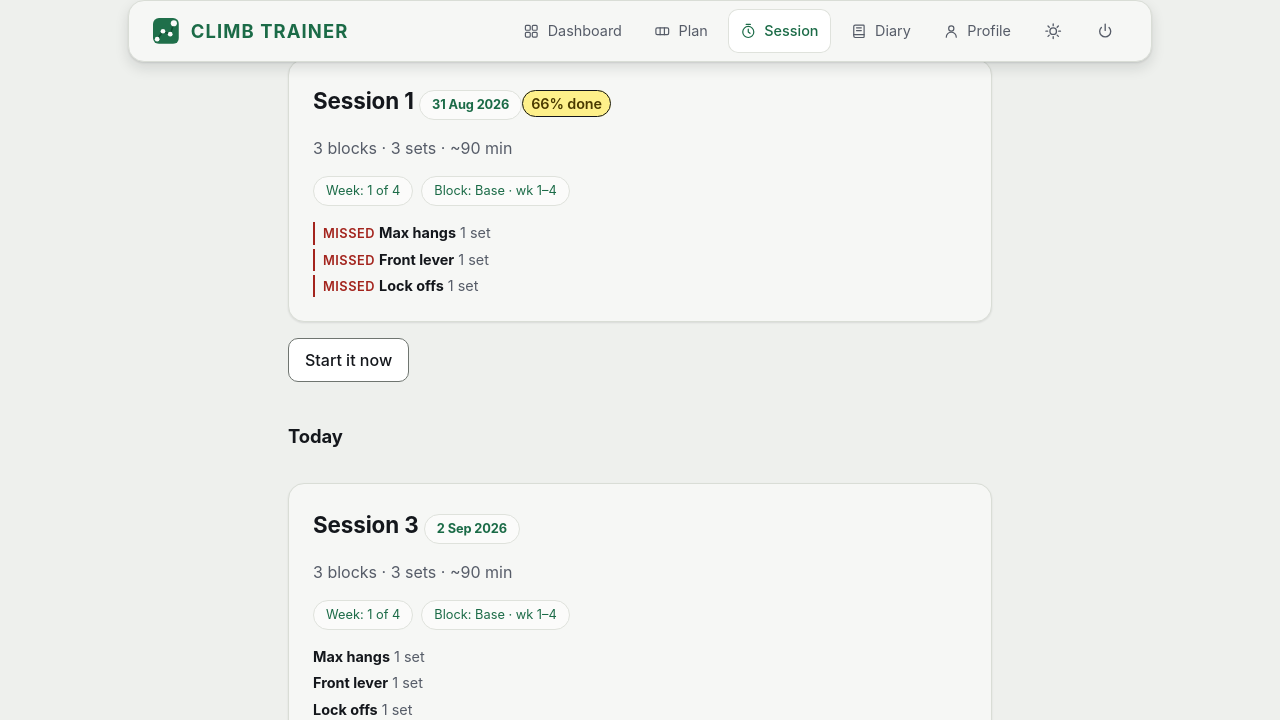
Test: takes a session done in FULL off the offer sections entirely, card included
(page scrolled)
Expected: the heading "Pending from previous days" is shown, [288, 1, 536, 23]
Click the button "Start it now": coordinates (349, 360) [288, 338, 409, 382]
(page scrolled)
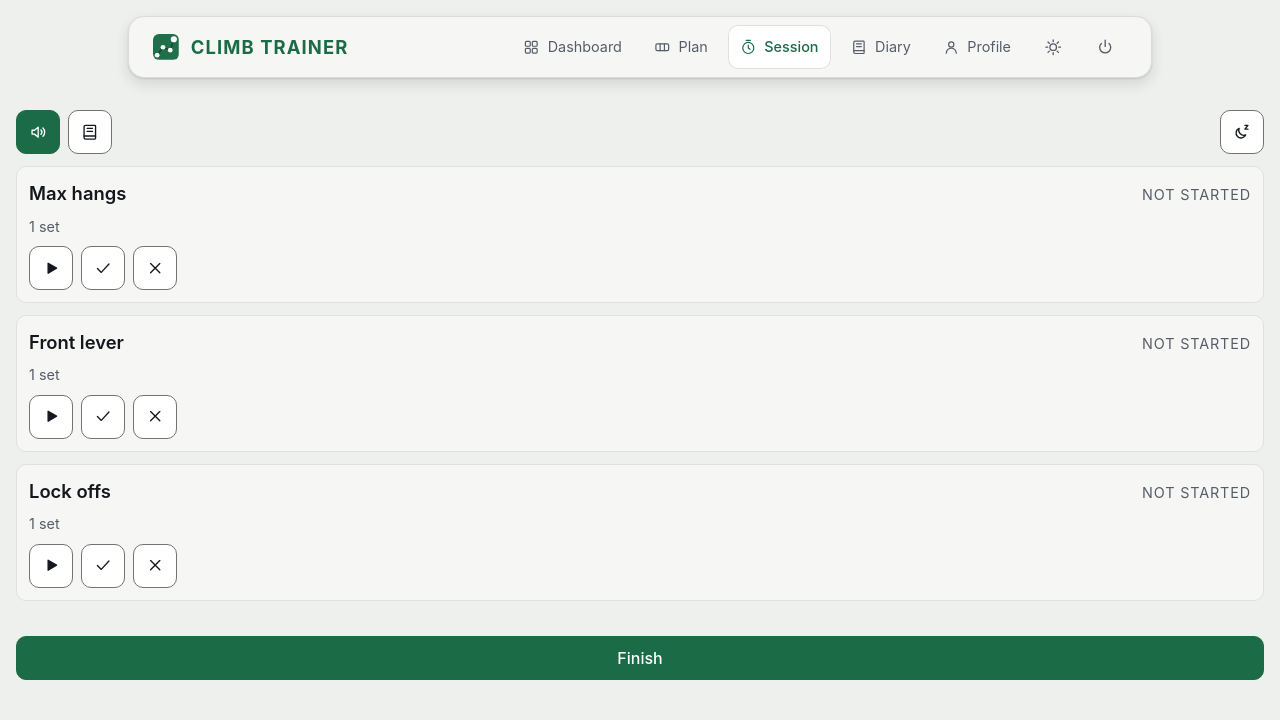
Click the button named "I did Max hangs myself": coordinates (103, 268) [81, 246, 125, 290]
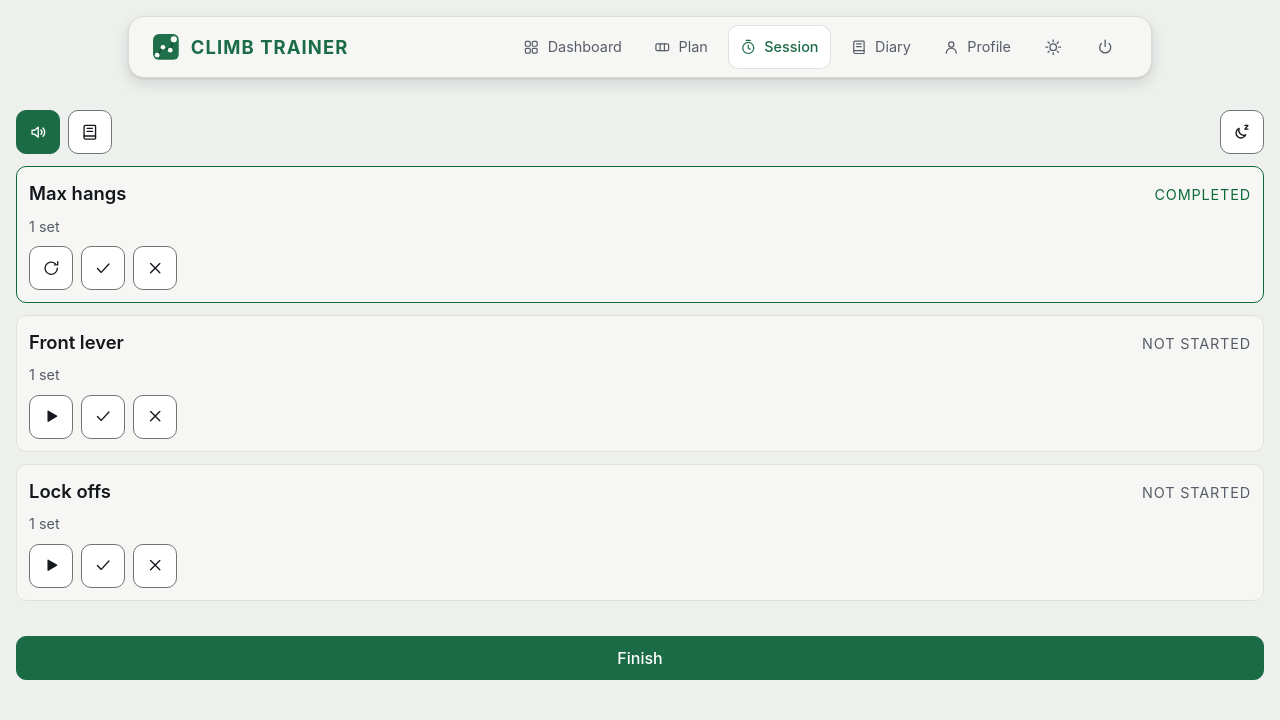
Click the button named "I did Front lever myself": coordinates (103, 417) [81, 395, 125, 439]
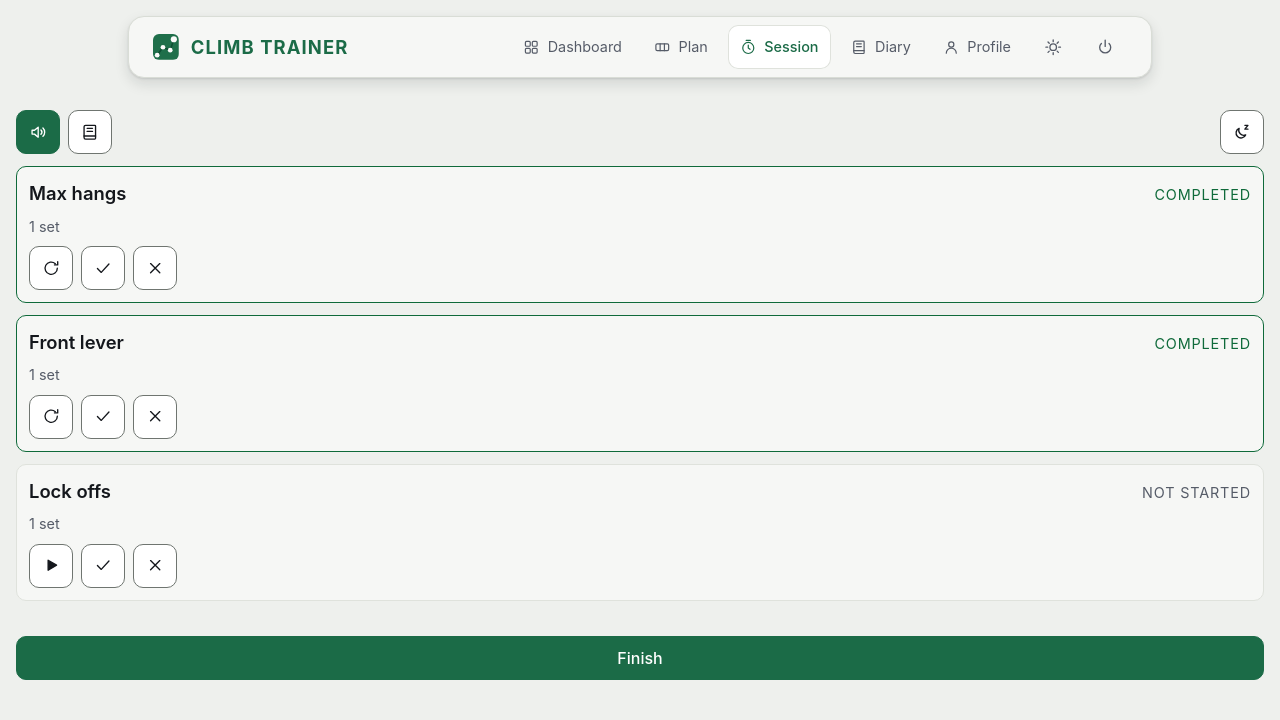
Click the button named "I did Lock offs myself": coordinates (103, 566) [81, 544, 125, 588]
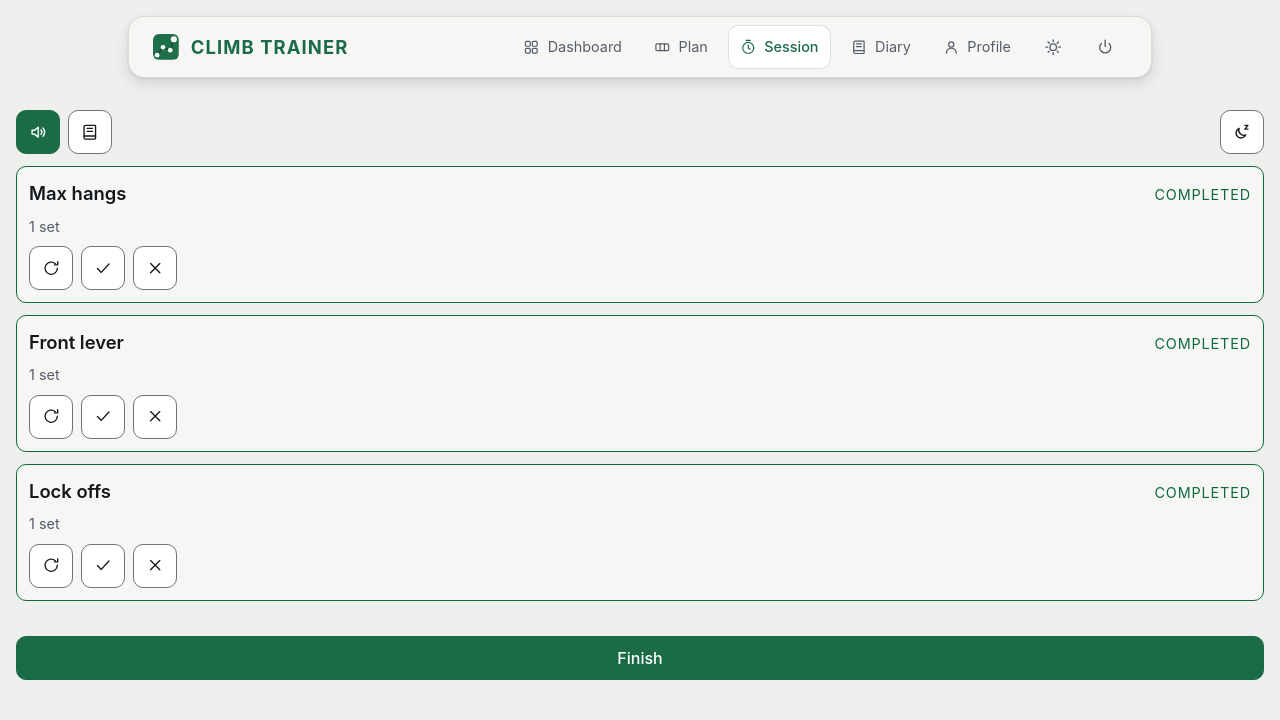
Click the button "Finish": coordinates (640, 658) [16, 636, 1264, 680]
(page scrolled)
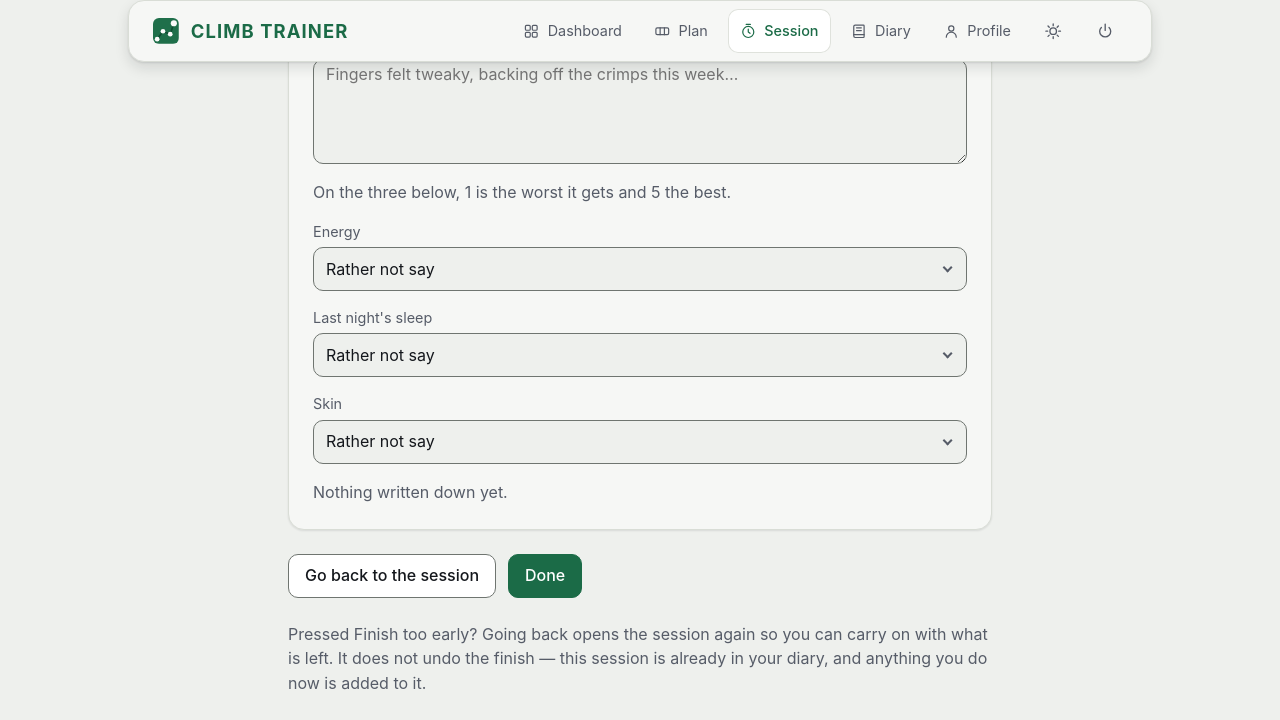
Click the button "Done": coordinates (545, 576) [508, 554, 582, 598]
(page scrolled)
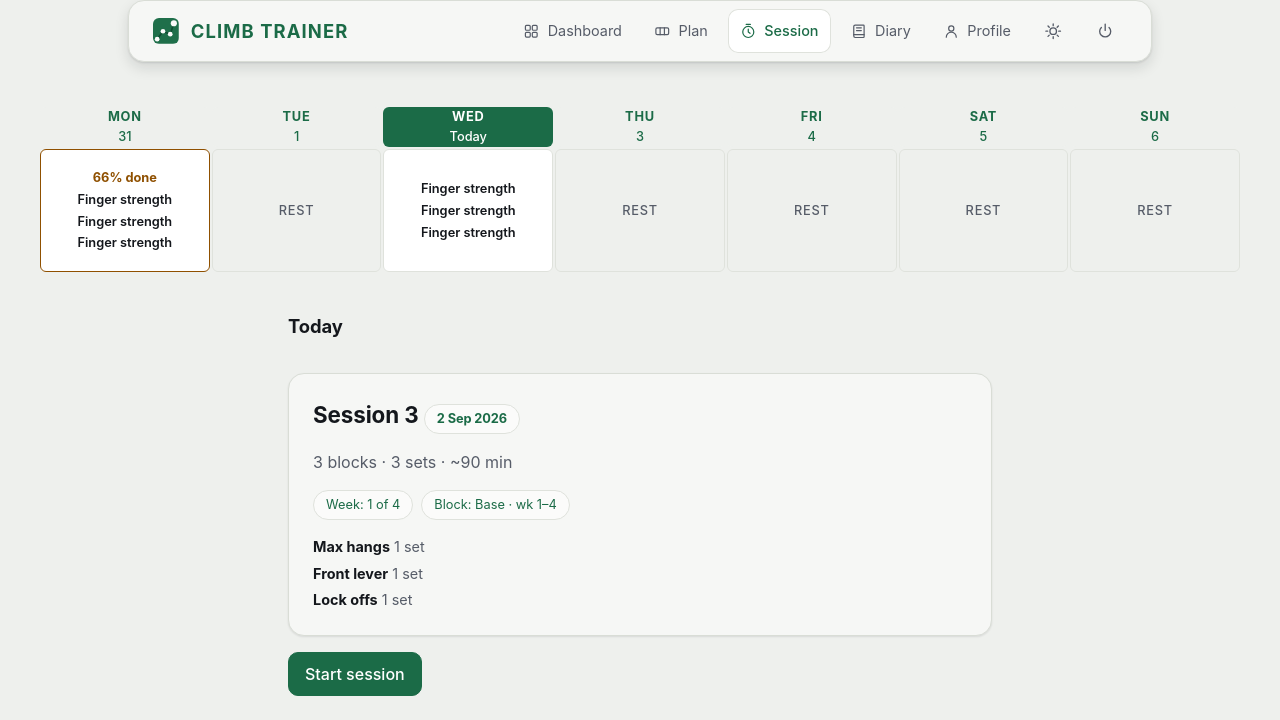
Expected: the heading "Pending from previous days" is not shown
Now the number of elements with class "ct-app__card" is 1, box [288, 373, 992, 636]
